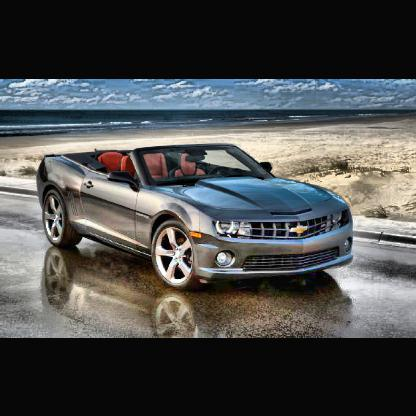Chevrolet Camaro Convertible 2012: (38, 142, 358, 290)
